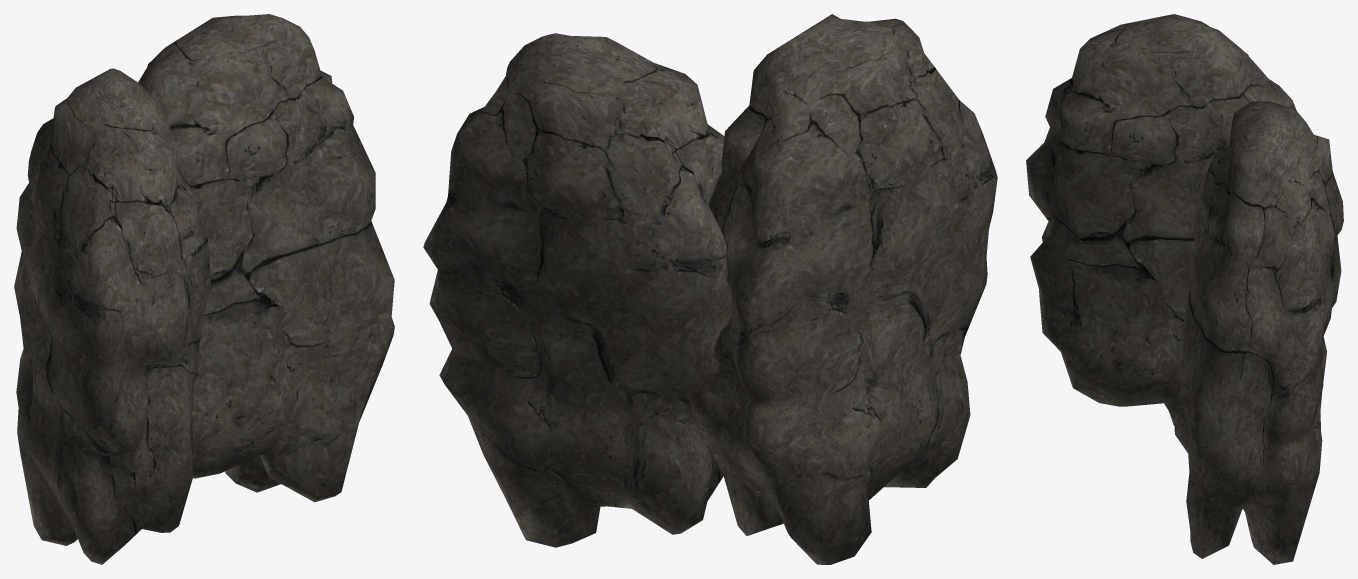
The model's file is TwinPeakRocksShape13.dae.
3 renders of one model, left to right at view 1: azimuth 30°, elevation 25°; view 2: azimuth 150°, elevation 25°; view 3: azimuth 270°, elevation 25°, orthographic. The views are drawn at different scales.
Visible parts, largest first — view 1: TwinPeakRocks13; view 2: TwinPeakRocks13; view 3: TwinPeakRocks13.
Boxes of the visible parts, x1,y1,x2,y2 form: TwinPeakRocks13: (14, 14, 394, 564); TwinPeakRocks13: (423, 14, 997, 564); TwinPeakRocks13: (1026, 14, 1343, 564).
Size of the model in its own units: 199 by 233 by 150.
